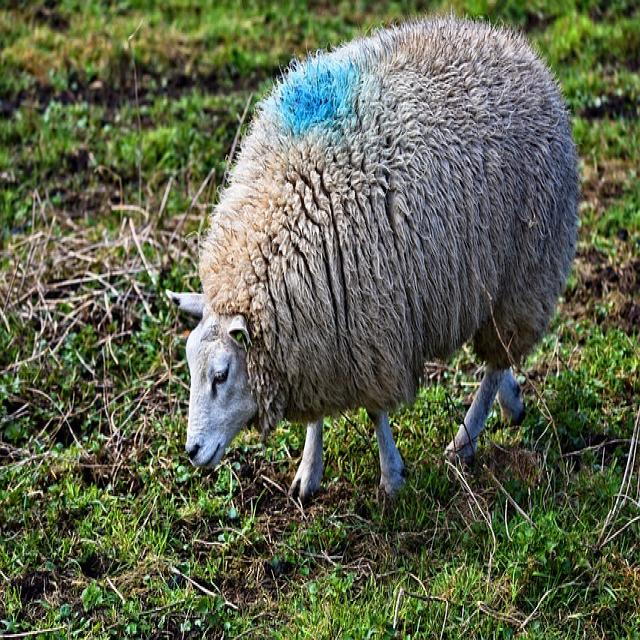sheep: (165, 11, 581, 508)
